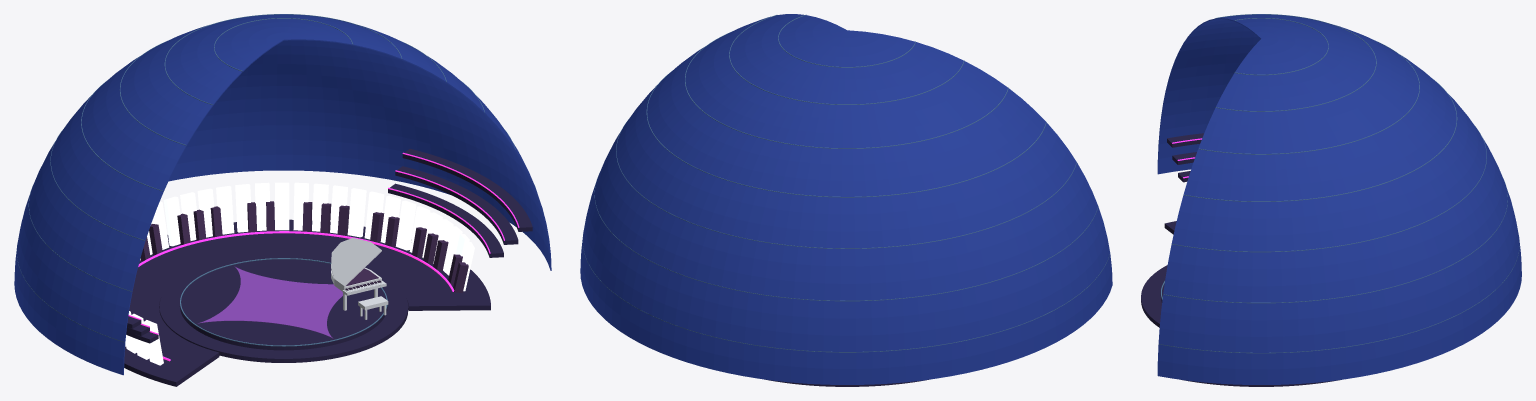
3 renders of one model, left to right at view 1: azimuth 30°, elevation 25°; view 2: azimuth 150°, elevation 25°; view 3: azimuth 270°, elevation 25°, orthographic. The views are drawn at different scales.
Parts seen in each view (by area): view 1: finite-media-surface-unresolved, stage-outer-floor, stage-central-solid, stage-step-ring, four-point-concave-floor-inlay, upper-terrace-1-2, upper-terrace-1-1, upper-terrace-1-0, piano-open-lid, key-pink-ring, white-key-27, inner-luminous-rim (+14 smaller); view 2: finite-media-surface-unresolved, media-grid-lat-05, media-grid-lat-08, media-grid-lat-11, media-grid-lat-02, media-grid-lat-14; view 3: finite-media-surface-unresolved, stage-step-ring, media-grid-lat-05, media-grid-lat-08, media-grid-lat-02, media-grid-lat-11, media-grid-lat-17, stage-outer-floor, media-grid-lat-14, upper-terrace--1-2.
Part boxes in pixels (x1,y1,x2,y2): finite-media-surface-unresolved: (14,14,551,375); stage-outer-floor: (124,219,490,386); stage-central-solid: (180,259,387,350); stage-step-ring: (159,254,408,362); four-point-concave-floor-inlay: (198,266,342,338); upper-terrace-1-2: (402,148,532,231); upper-terrace-1-1: (395,166,518,244); upper-terrace-1-0: (388,183,503,257); piano-open-lid: (331,238,381,286); key-pink-ring: (138,231,454,361); white-key-27: (347,188,366,237); inner-luminous-rim: (180,258,387,346); finite-media-surface-unresolved: (580,14,1112,384); media-grid-lat-05: (594,173,1098,301); media-grid-lat-08: (616,119,1076,248); media-grid-lat-11: (646,71,1046,197); media-grid-lat-02: (582,234,1110,352); media-grid-lat-14: (685,31,1008,148); finite-media-surface-unresolved: (1157,14,1521,384); stage-step-ring: (1141,265,1167,327); media-grid-lat-05: (1163,180,1507,303); media-grid-lat-08: (1172,126,1486,252); media-grid-lat-02: (1159,240,1519,353); media-grid-lat-11: (1183,79,1457,201); media-grid-lat-17: (1215,14,1376,111); stage-outer-floor: (1164,221,1341,386); media-grid-lat-14: (1198,40,1419,154); upper-terrace--1-2: (1167,133,1203,147).
Bounding box in the file's own units: 25.99 × 14.5 × 19.
